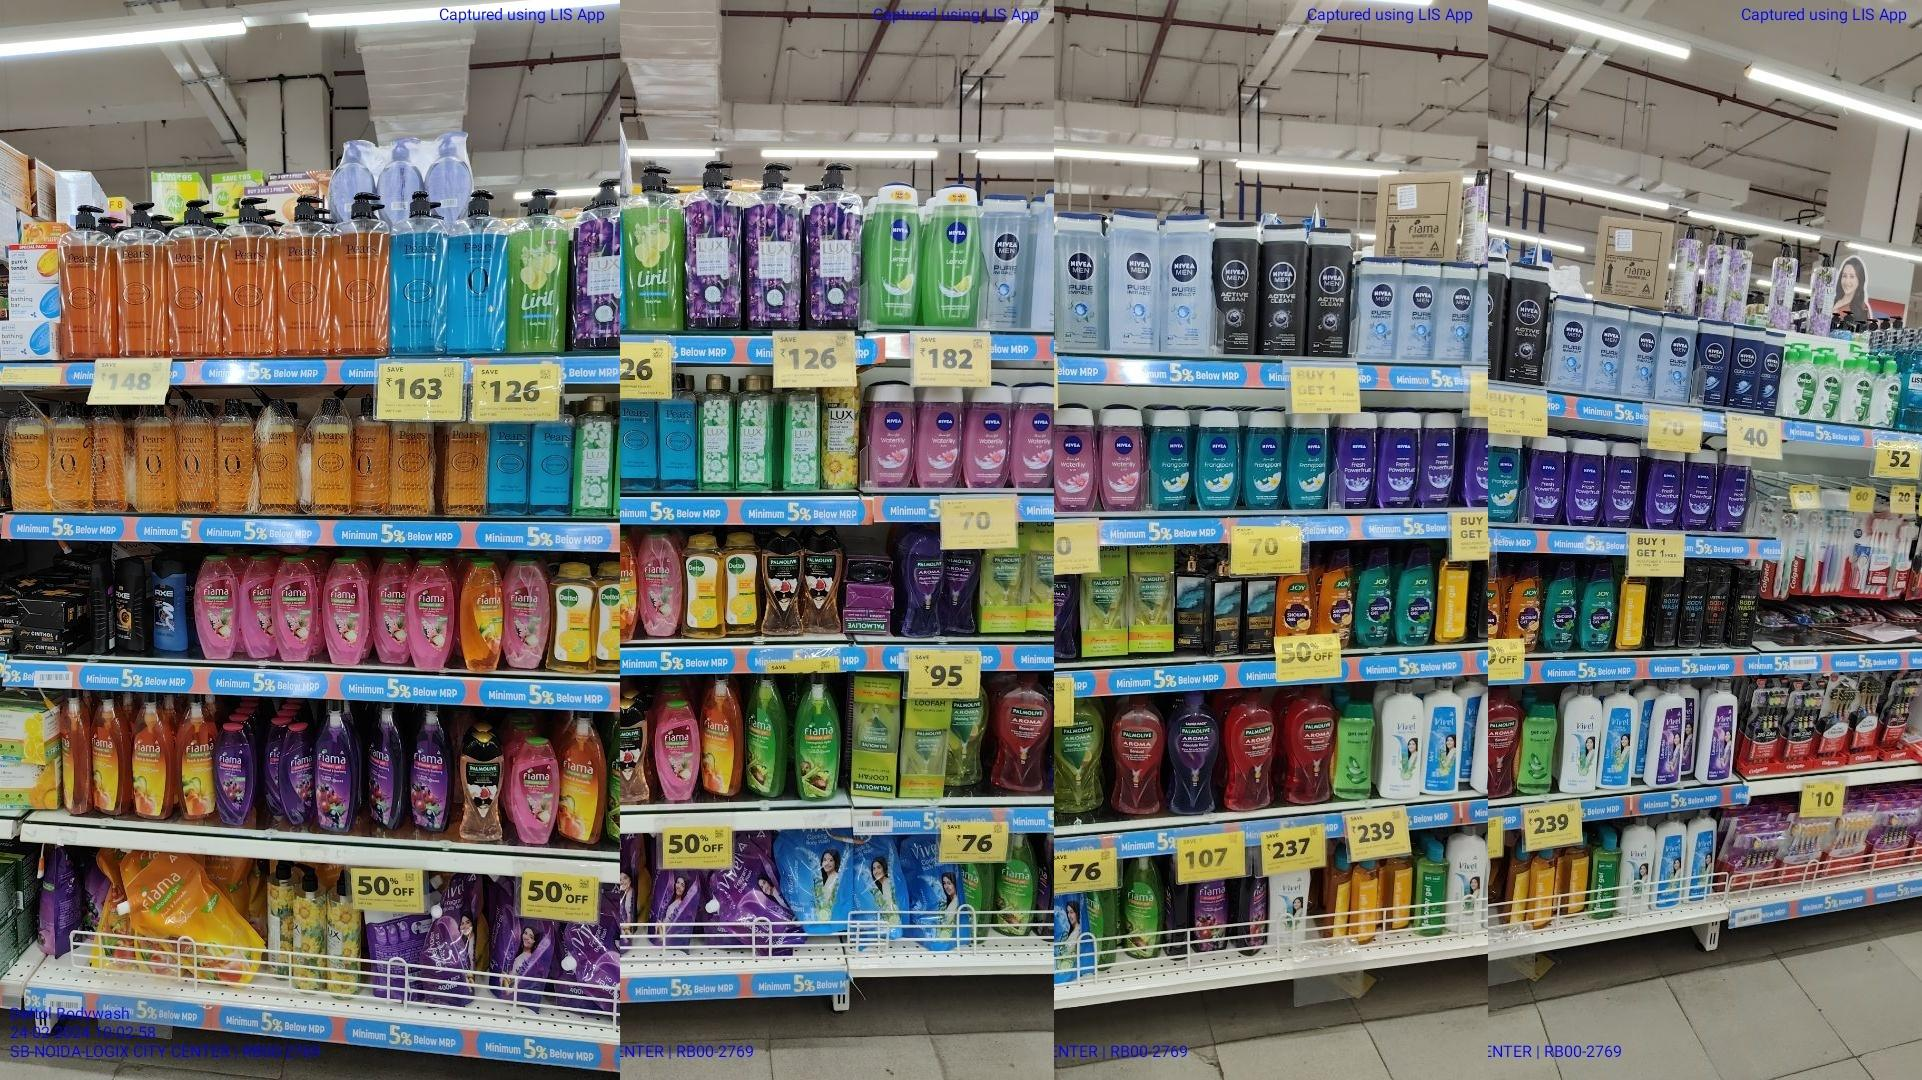Dettol_Bodywash_Refresh: (549, 564, 594, 673), (685, 532, 726, 638), (726, 535, 759, 636)
Fiama_Shower_Gel_Patchouli_and_Macadamia_250ML: (319, 557, 370, 665), (511, 737, 560, 844), (503, 562, 549, 669), (411, 557, 453, 671), (636, 532, 681, 636), (655, 701, 700, 799), (277, 556, 318, 661), (195, 556, 236, 660), (374, 558, 411, 664), (238, 556, 276, 658)
Fiama_Shower_Gel_Peach_and_Avocado_250ML: (458, 560, 500, 672)
Lux_Body_Wash_Skin_Detox_Freesia_Scent_and_Alove_Vera_245ML: (574, 395, 613, 518), (697, 372, 735, 492), (735, 375, 774, 491), (784, 386, 821, 490)
Nivea_Shower_Gel_Frangipani_and_Oil_250ML: (1195, 407, 1241, 512), (1148, 405, 1193, 510), (1242, 408, 1287, 508), (1290, 411, 1328, 508)
Nivea_Shower_Gel_Fresh_Powerfruit_250ML: (1332, 413, 1375, 508), (1377, 411, 1418, 510), (1418, 411, 1453, 510), (1527, 436, 1566, 525), (1570, 438, 1605, 525), (1608, 440, 1641, 528), (1684, 449, 1719, 533), (1645, 450, 1682, 528), (1720, 452, 1752, 532)
Nivea_Shower_Gel_Lemon_and_Oil_250ML: (923, 185, 979, 329), (869, 185, 920, 331)
Nivea_Shower_Gel_Waterlily_and_Oil_250ML: (1098, 405, 1146, 511), (915, 386, 964, 486), (869, 383, 913, 489), (1011, 383, 1055, 486), (1056, 405, 1098, 511), (966, 386, 1010, 487)
Palmolive_Luminous_Oils_With_White_Orchid_Shower_Gel_250ML: (760, 531, 803, 635), (801, 532, 841, 634)
